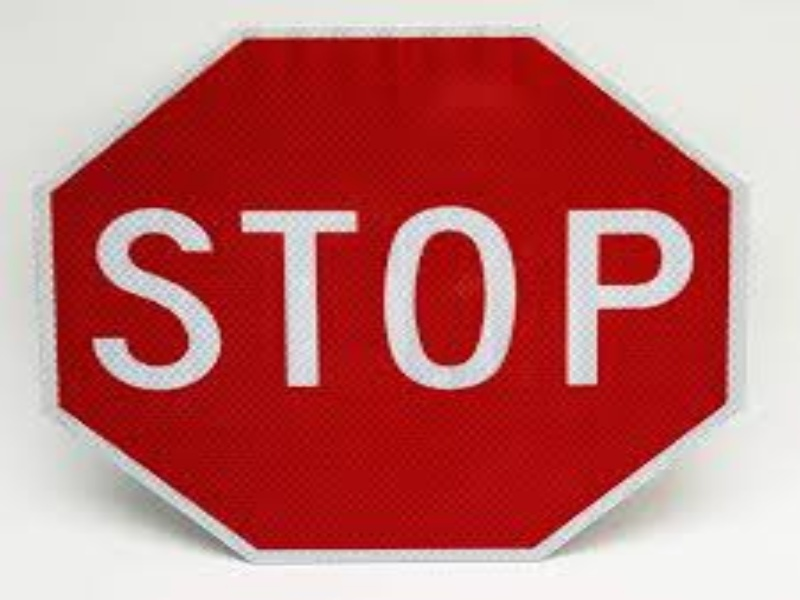Stop_Sign: (38, 31, 747, 563)
